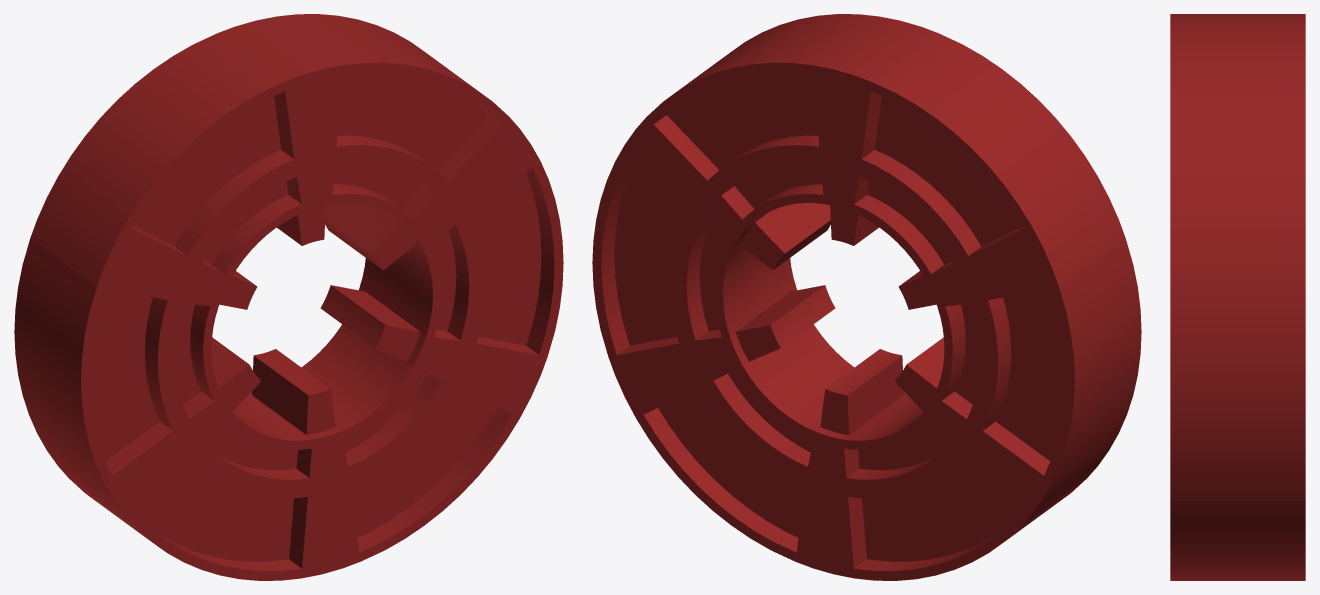
Rendered from cassette_spool2.glb.
The picture shows the model from 3 angles, left to right: view 1: azimuth 30°, elevation 25°; view 2: azimuth 150°, elevation 25°; view 3: azimuth 270°, elevation 25°; orthographic projection.
Parts seen in each view (by area): view 1: Cylinder.001_Cylinder.004; view 2: Cylinder.001_Cylinder.004; view 3: Cylinder.001_Cylinder.004.
Boxes of the visible parts, x1=… form: Cylinder.001_Cylinder.004: x1=14, y1=14, x2=563, y2=580; Cylinder.001_Cylinder.004: x1=592, y1=14, x2=1141, y2=580; Cylinder.001_Cylinder.004: x1=1170, y1=14, x2=1305, y2=580.
Size of the model in its own units: 0.2274 by 0.2274 by 0.0544.
